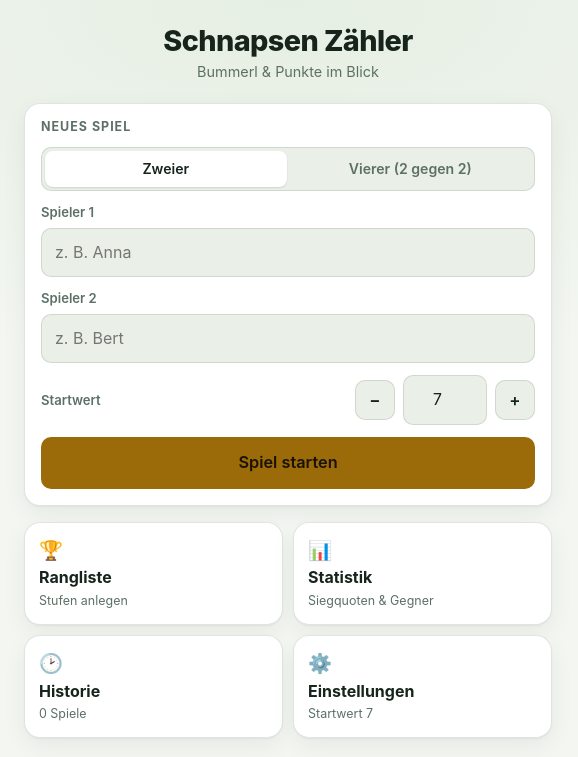
App › zeigt das Feld für andere Punktzahl im Zweier nicht an
Type "Anna" into the field labelled "Spieler 1" at (288, 253), box [41, 228, 535, 277]
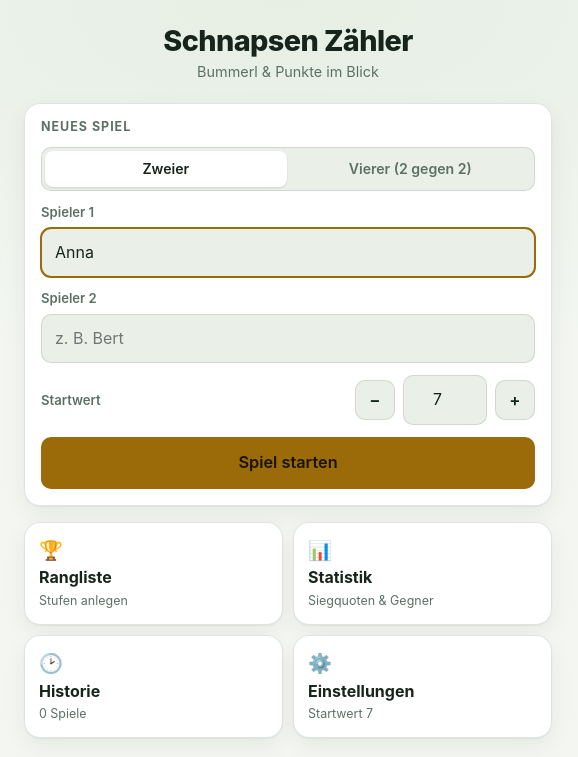
Type "Bert" into the field labelled "Spieler 2" at (288, 339), box [41, 314, 535, 364]
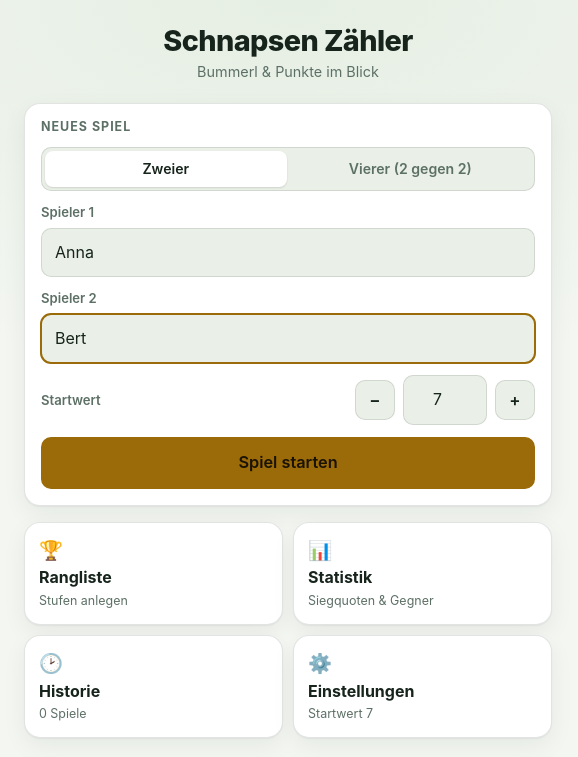
Click the button "Spiel starten" at (288, 463), box [41, 437, 535, 489]
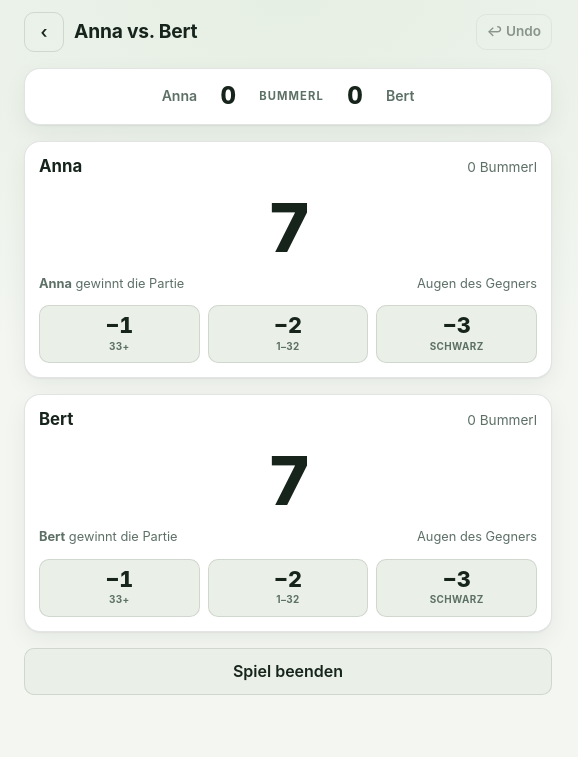
expect the heading "Anna vs. Bert" is shown: met, box [74, 20, 197, 44]
